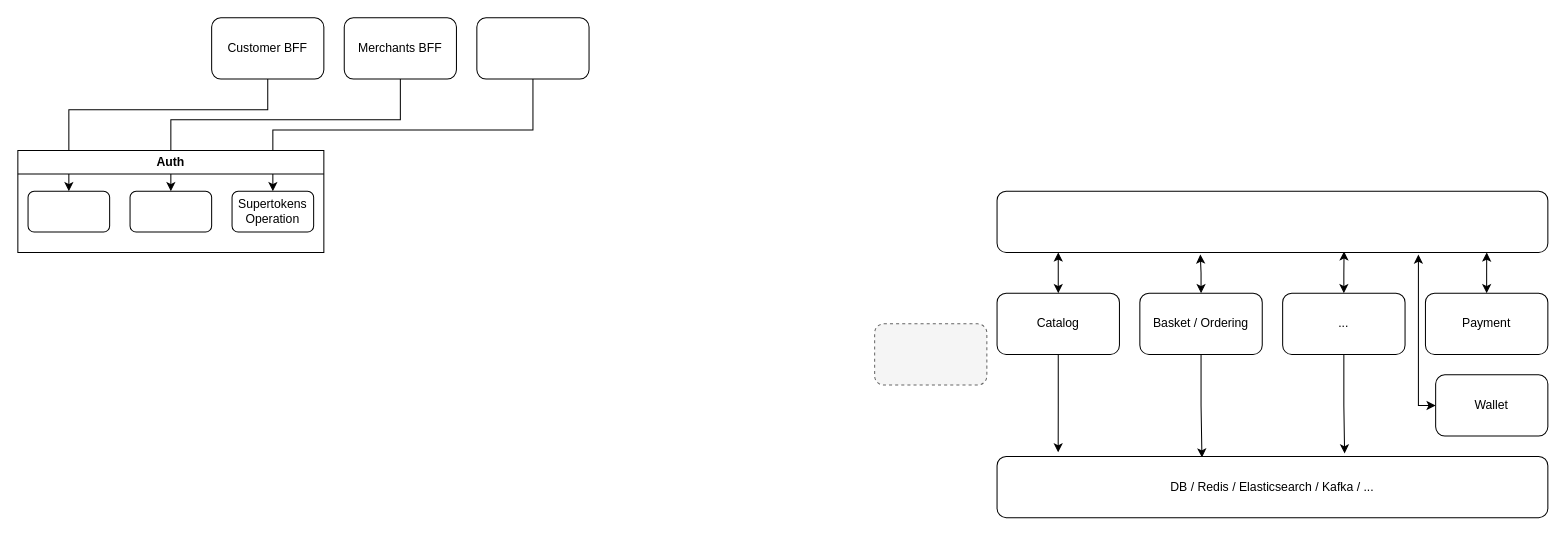
Some shapes in this 1566 by 536 pixel diagram are drawn without their labels. Each missing label, with the centre of its shape:
"Metric / Tracing" belongs at pixel 930 354.
"Operation BFF" belongs at pixel 532 48.
"Supertokens Customer" belongs at pixel 68 211.
"Supertokens Merchant" belongs at pixel 170 211.
"Temporal" belongs at pixel 1272 221.
